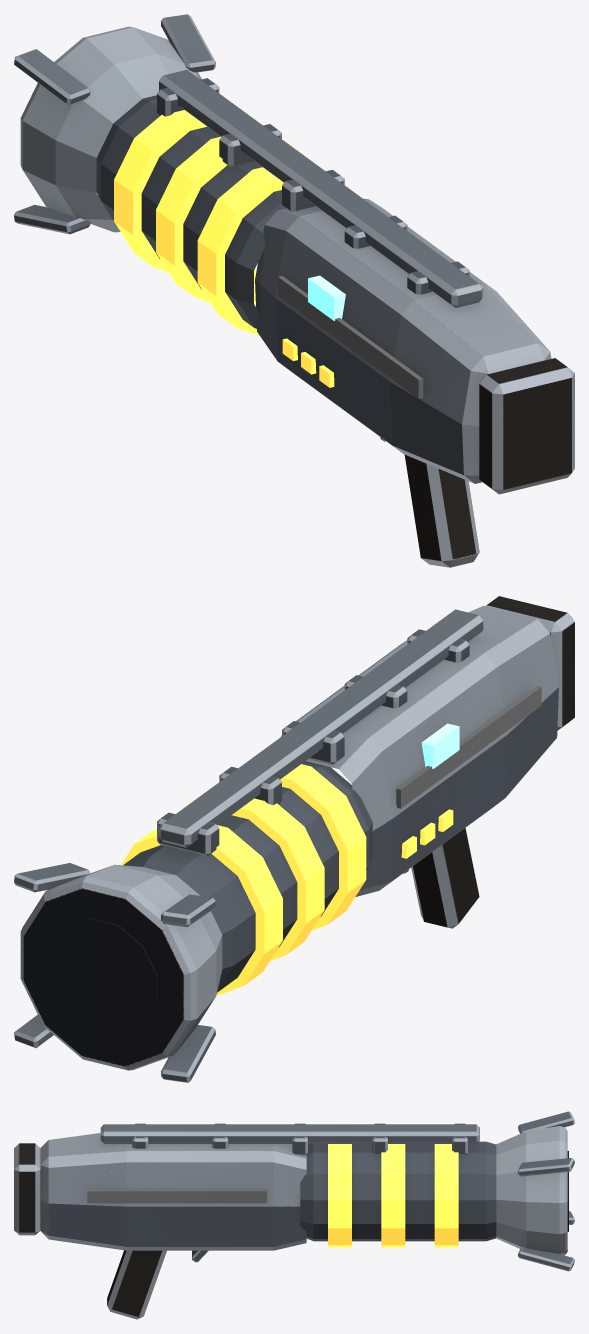
3 renders of one model, top to bottom at view 1: azimuth 30°, elevation 25°; view 2: azimuth 150°, elevation 25°; view 3: azimuth 270°, elevation 25°, orthographic. The views are drawn at different scales.
Parts seen in each view (by area): view 1: body; view 2: body; view 3: body.
Boxes of the visible parts, x1,y1,x2,y2 form: body: [14, 14, 574, 567]; body: [14, 596, 574, 1082]; body: [14, 1111, 574, 1319].
Size of the model in its own units: 0.1953 by 0.3114 by 0.843.
1 material, 1 textured.
